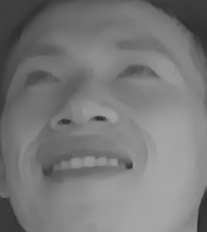eye: (116, 55, 166, 90), (21, 63, 62, 94)
mouth: (34, 146, 135, 189)
